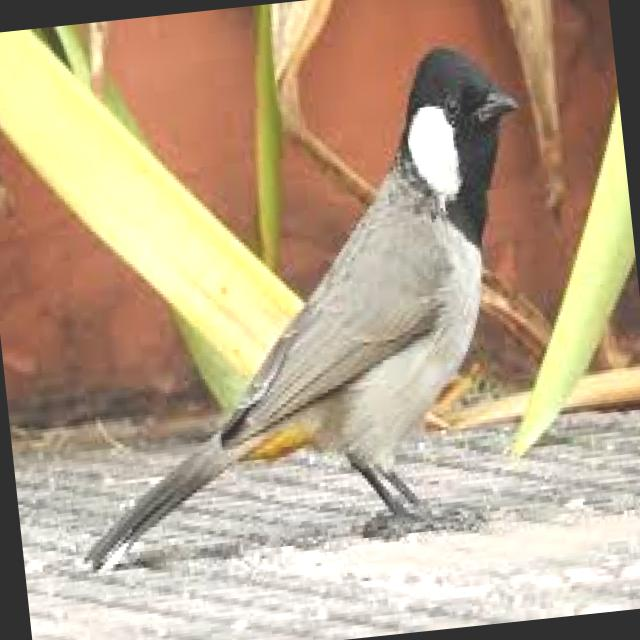bird: (29, 27, 568, 584)
